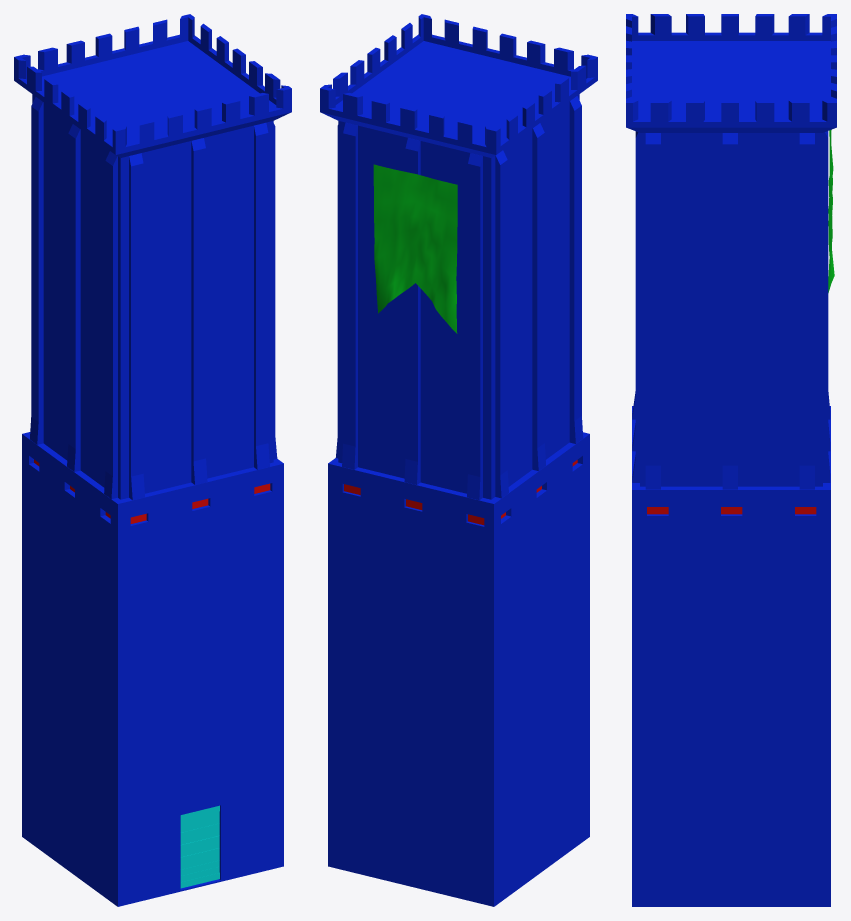
The picture shows the model from 3 angles, left to right: view 1: azimuth 30°, elevation 25°; view 2: azimuth 150°, elevation 25°; view 3: azimuth 270°, elevation 25°; orthographic projection. The views are drawn at different scales.
Parts seen in each view (by area): view 1: Plane, Cube.001; view 2: Plane, Plane.001; view 3: Plane, Plane.001.
Boxes of the visible parts, bbox=[...] form: Plane: bbox=[14, 14, 291, 906]; Cube.001: bbox=[180, 805, 219, 888]; Plane: bbox=[320, 14, 597, 906]; Plane.001: bbox=[373, 164, 457, 333]; Plane: bbox=[626, 14, 836, 906]; Plane.001: bbox=[828, 129, 834, 292].
Size of the model in its own units: 419 by 1772 by 419.
